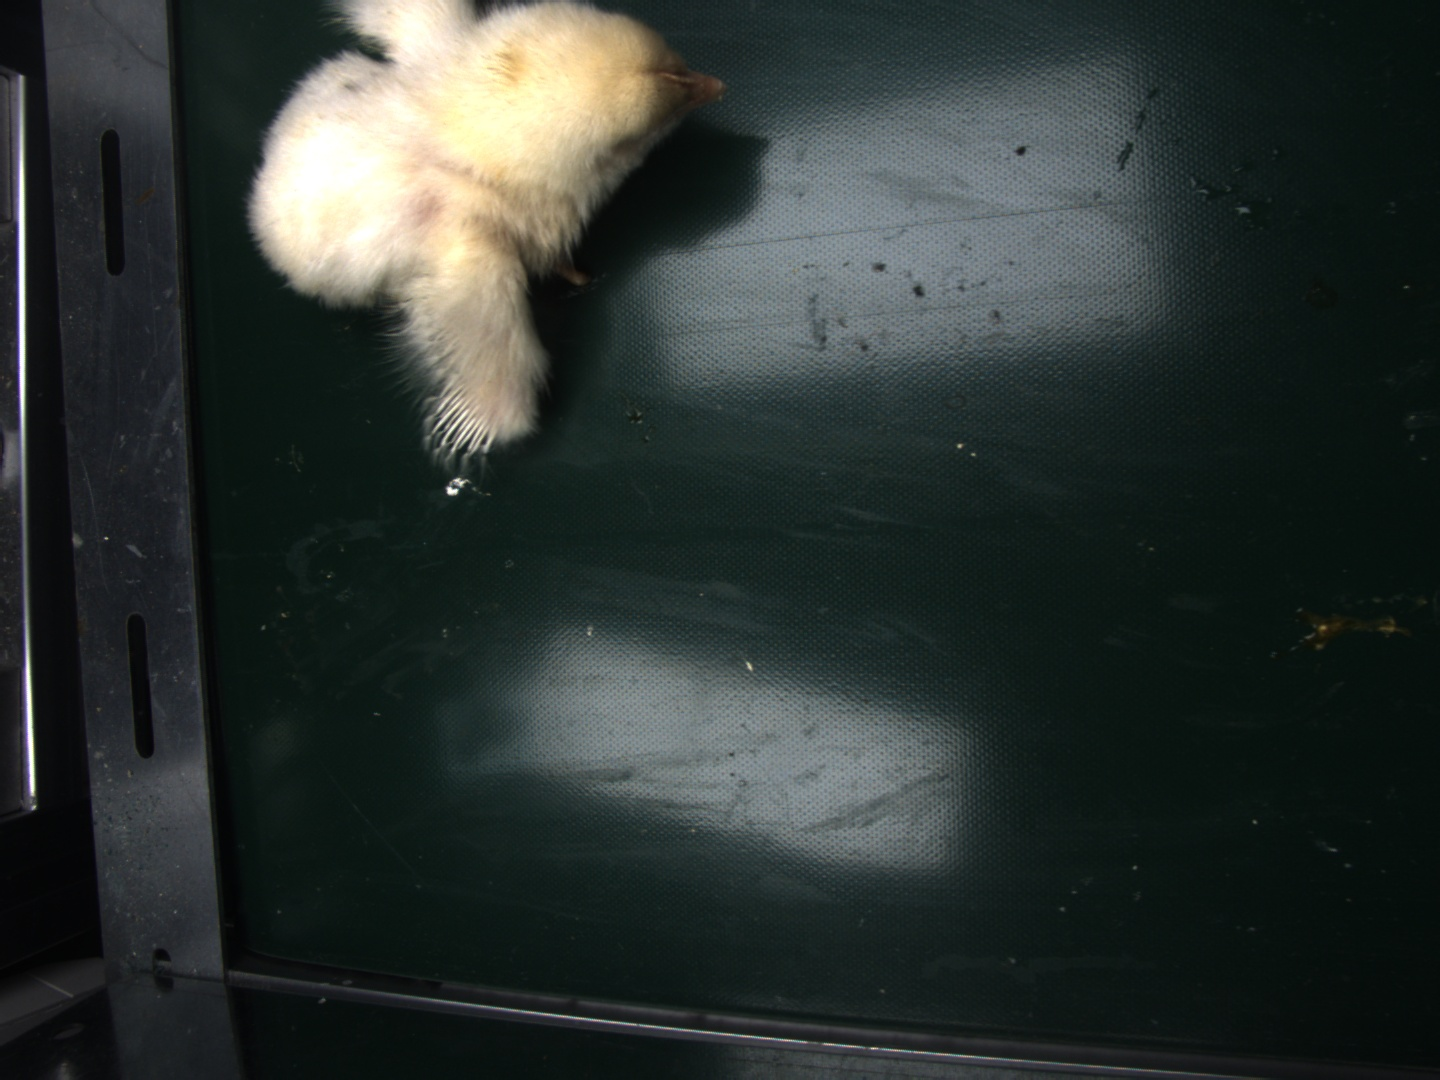male: (431, 386, 497, 457)
